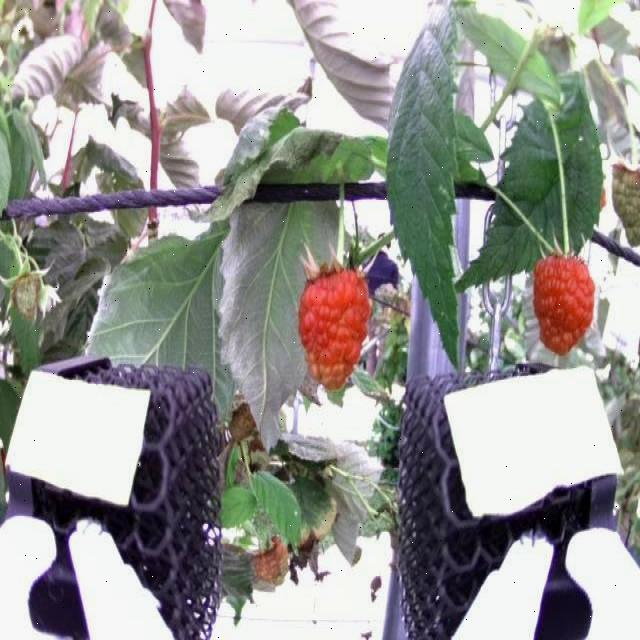Riped berries: (296, 257, 372, 392), (530, 248, 601, 358)
